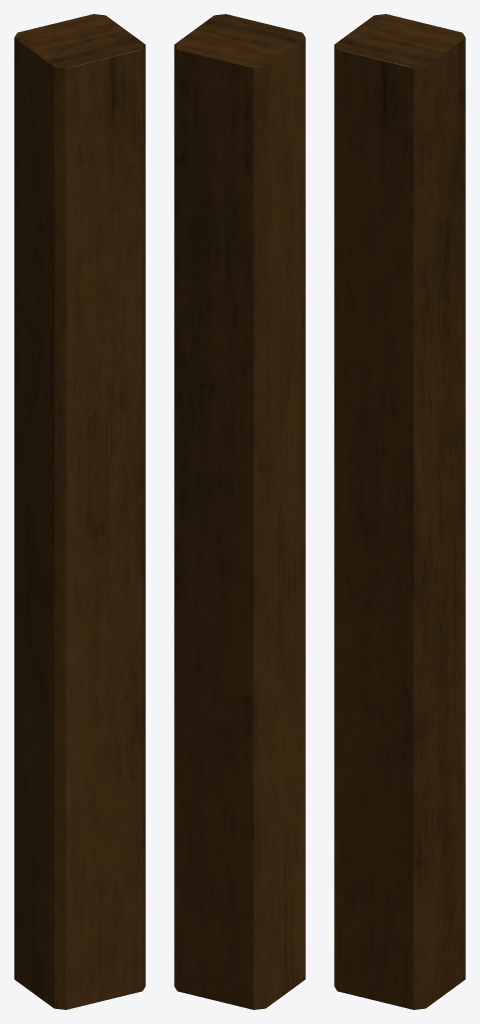
The model's file is WallPillar.fbx.
3 renders of one model, left to right at view 1: azimuth 30°, elevation 25°; view 2: azimuth 150°, elevation 25°; view 3: azimuth 330°, elevation 25°, orthographic.
Parts seen in each view (by area): view 1: WallPillar; view 2: WallPillar; view 3: WallPillar.
Part boxes in pixels (x1,y1,x2,y2): WallPillar: [14, 14, 145, 1009]; WallPillar: [174, 14, 305, 1009]; WallPillar: [334, 14, 465, 1009].
Bounding box in the file's own units: 27.62 × 271 × 25.5.
